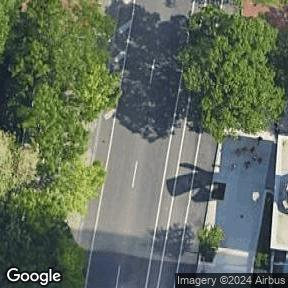vegetation: (0, 0, 119, 288), (179, 6, 288, 141), (197, 225, 224, 262)
